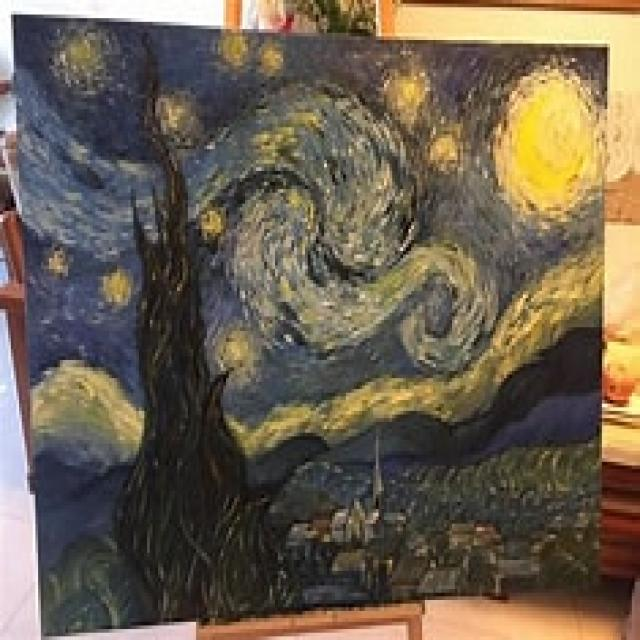starrynight: (16, 16, 598, 584)
